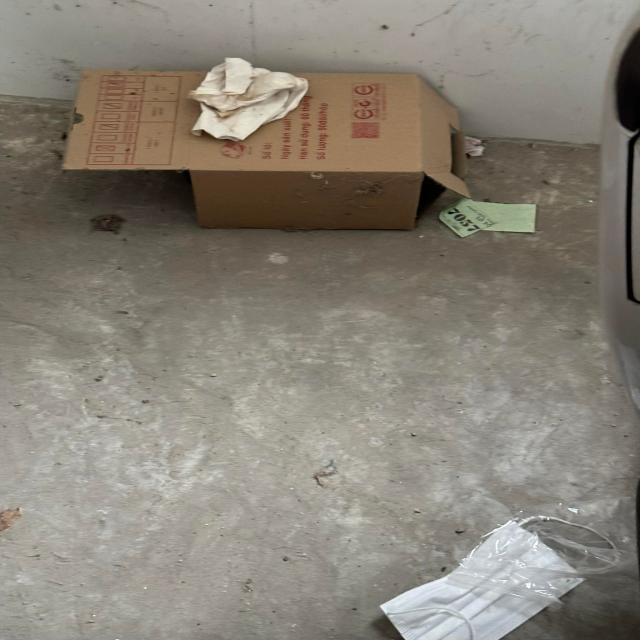cardboard box: (58, 66, 469, 232)
clothes: (188, 58, 306, 143)
mask: (379, 515, 615, 640)
paper: (438, 202, 536, 239)
